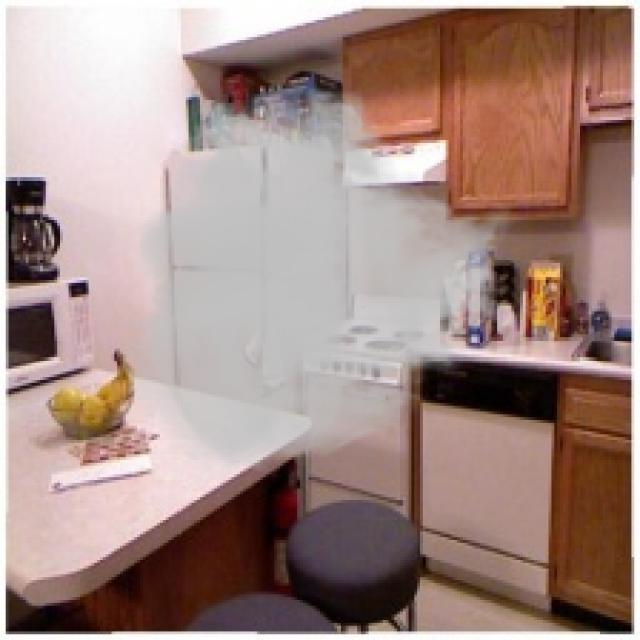Smoke: (117, 82, 520, 478)
